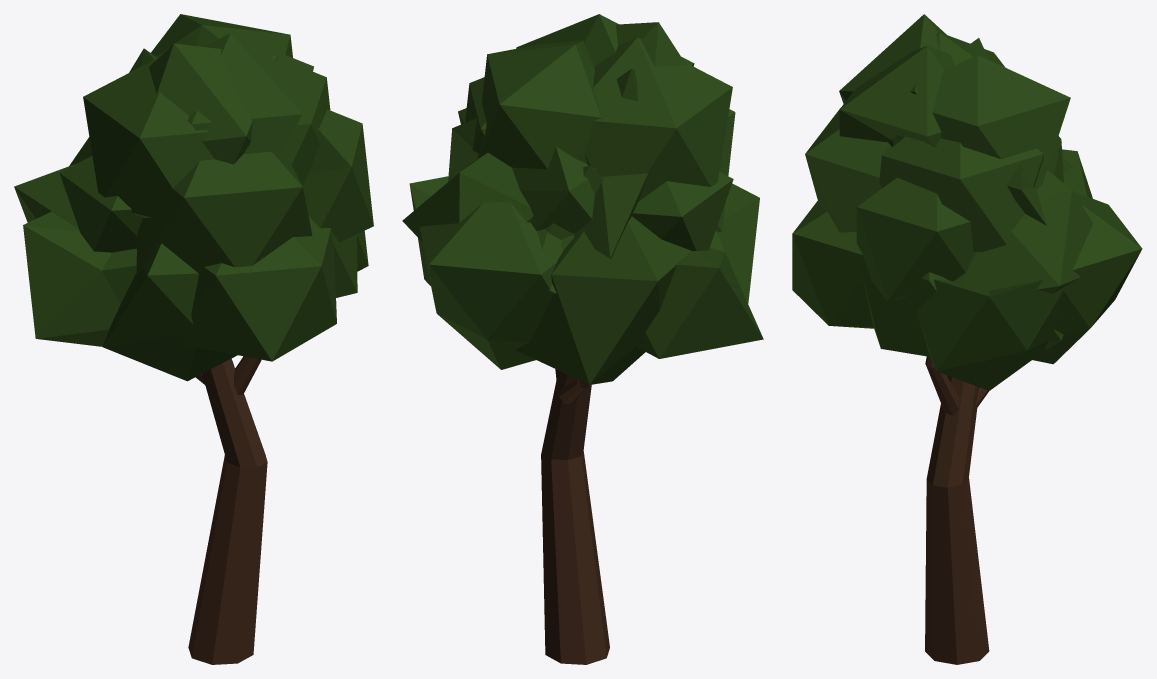
The model's file is tree_model0.dae.
3 renders of one model, left to right at view 1: azimuth 30°, elevation 25°; view 2: azimuth 150°, elevation 25°; view 3: azimuth 270°, elevation 25°, orthographic. The views are drawn at different scales.
Parts seen in each view (by area): view 1: Cylinder; view 2: Cylinder; view 3: Cylinder.
Part boxes in pixels (bbox=[...]): Cylinder: bbox=[14, 14, 373, 664]; Cylinder: bbox=[402, 14, 763, 664]; Cylinder: bbox=[792, 14, 1142, 664].
Bounding box in the file's own units: 5.46 × 5.12 × 9.8.
